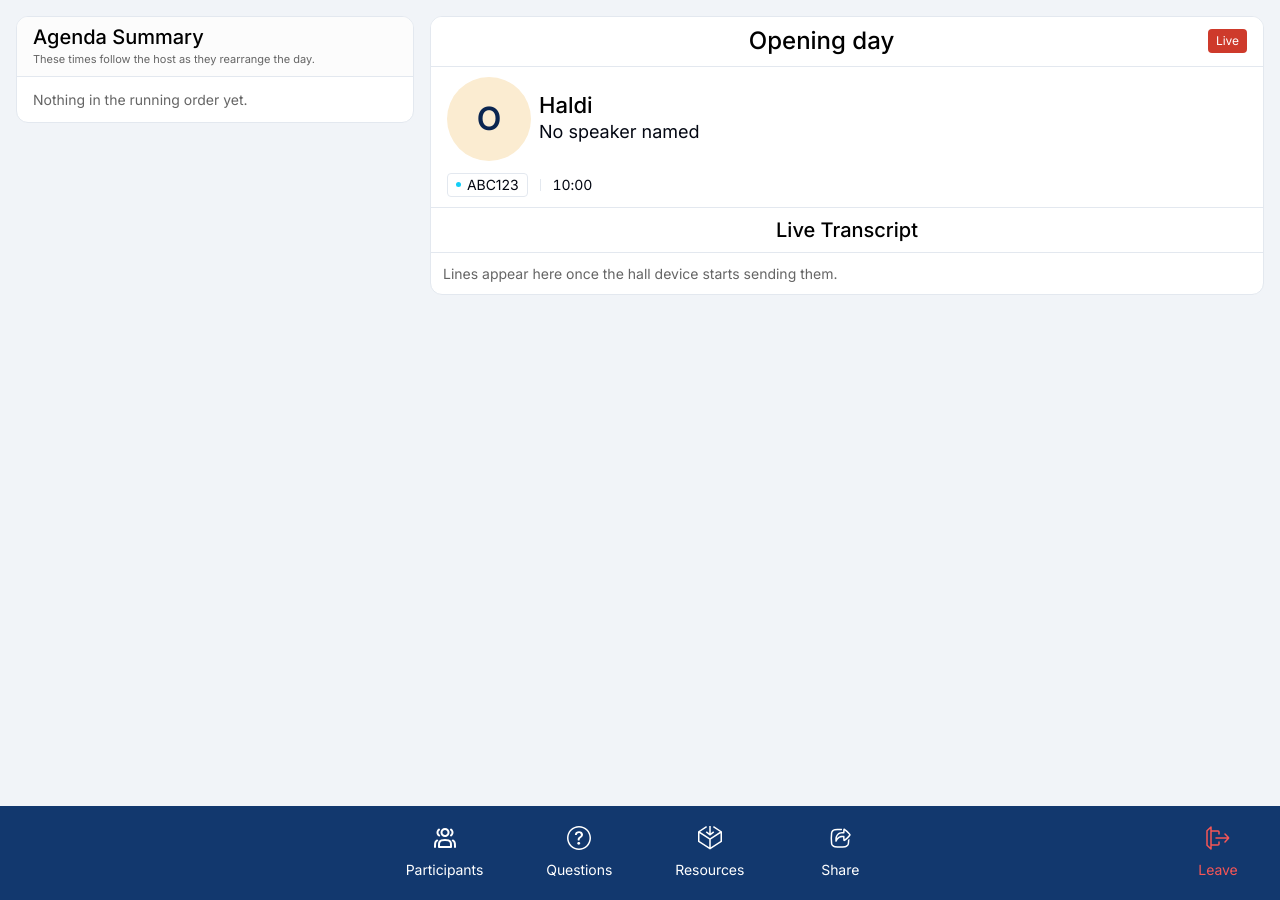
Test: the room as the design lays it out › opens the people beside the room, like everything else
Click the button "Participants": click(445, 853) 394,818 -> 495,888
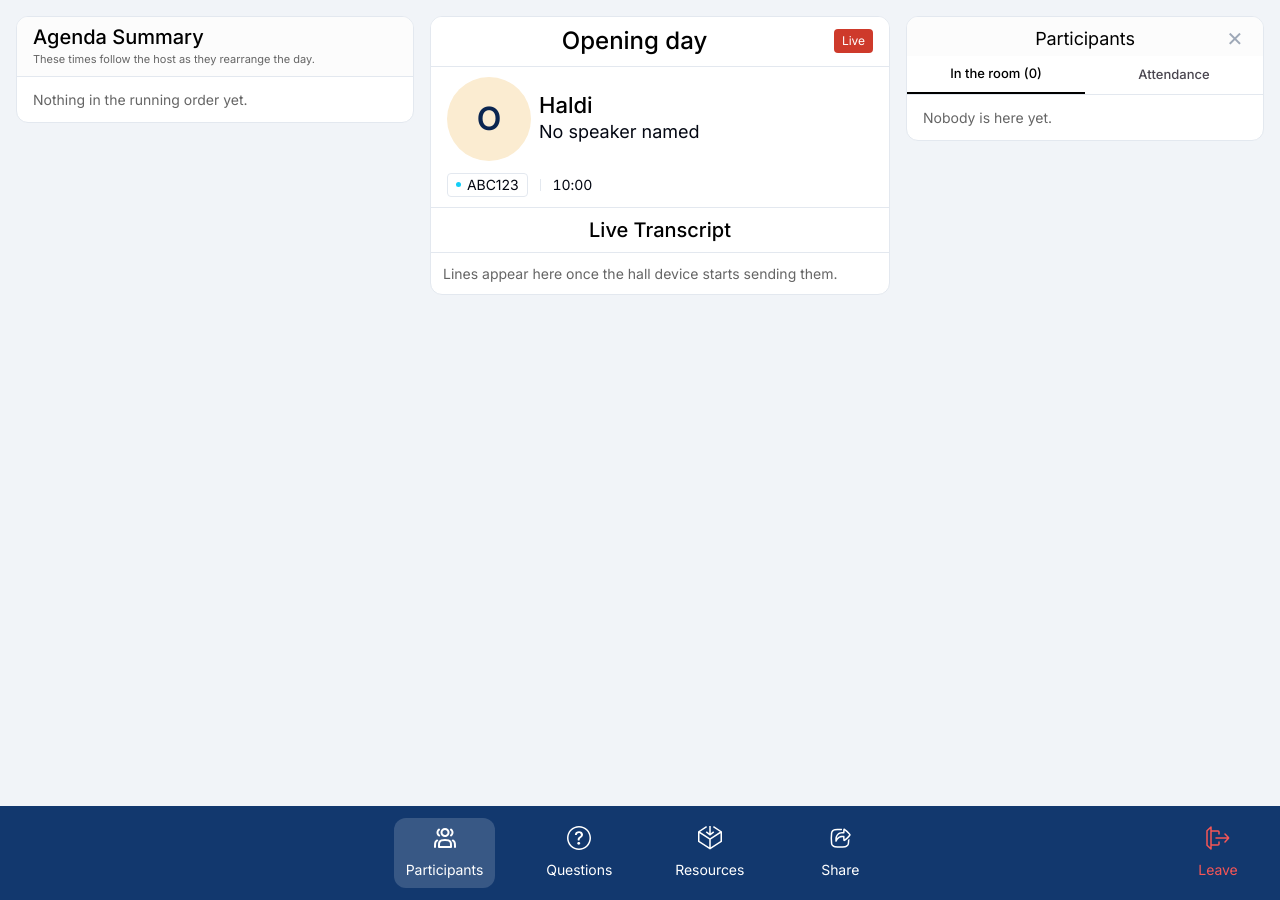
expect the heading "Participants" is shown: met, box 1035,28 -> 1135,49
